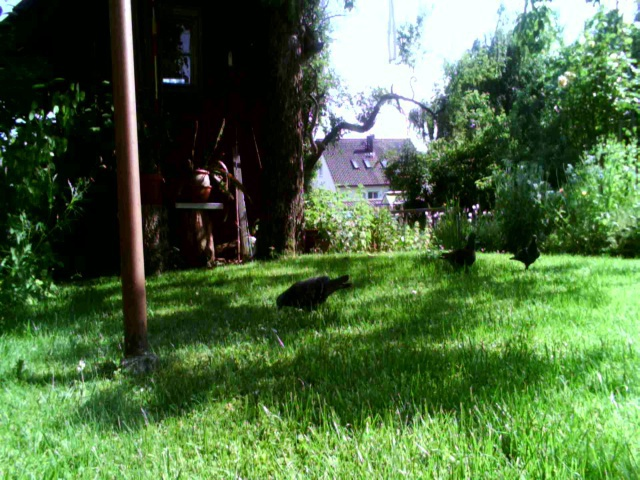Pigeon: (270, 271, 356, 314), (435, 230, 480, 271), (505, 232, 544, 271)
